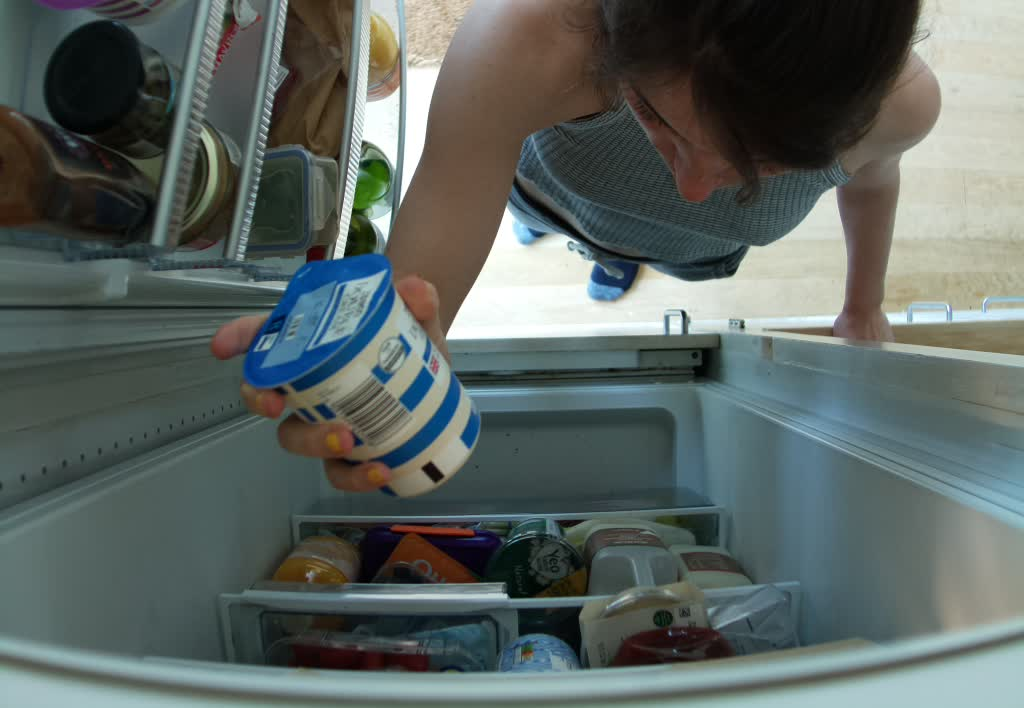cream: (240, 250, 484, 501)
